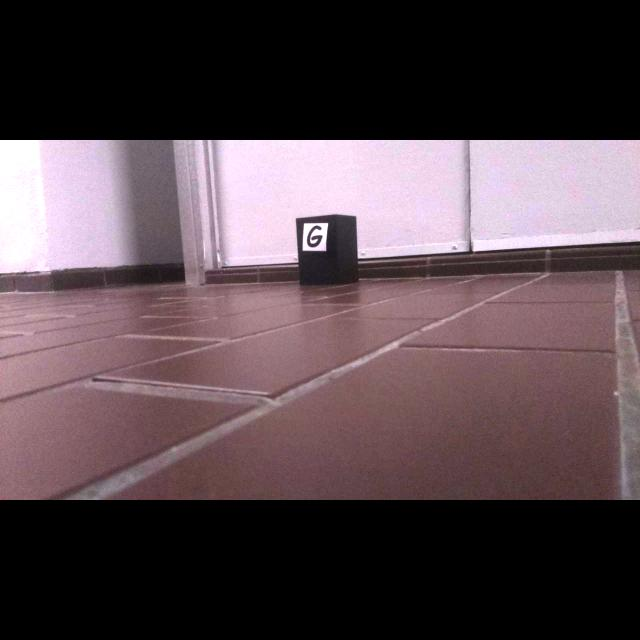G: (307, 225, 323, 247)
